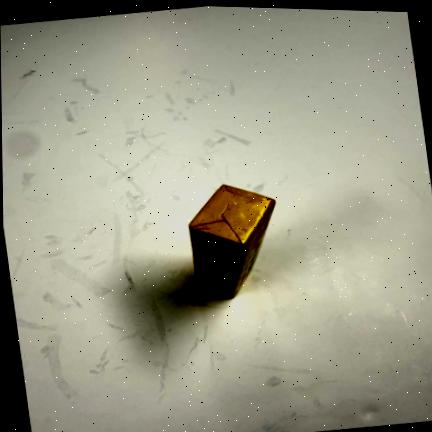gum_yellow: (190, 184, 274, 298)
